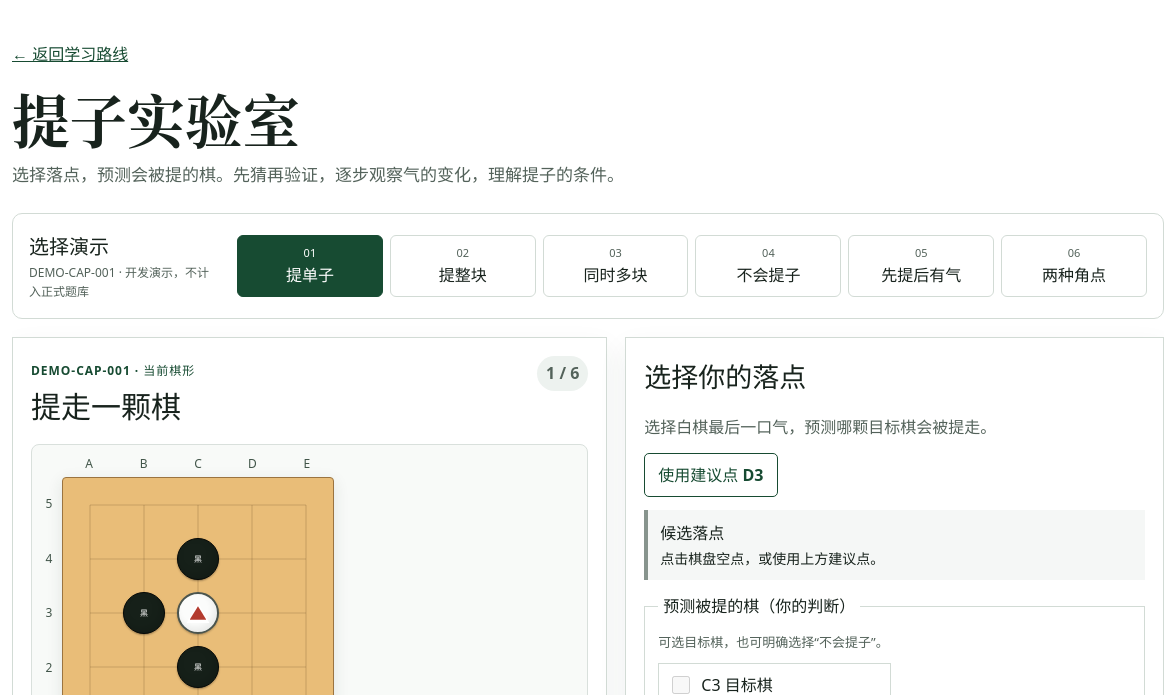
Scenario: T05 CaptureLab controller › shows suicide reason, keeps the initial board, then accepts capture-first
This screenshot has width=1164, height=695.
Click the button "06 两种角点": (1074, 266) [1001, 235, 1147, 297]
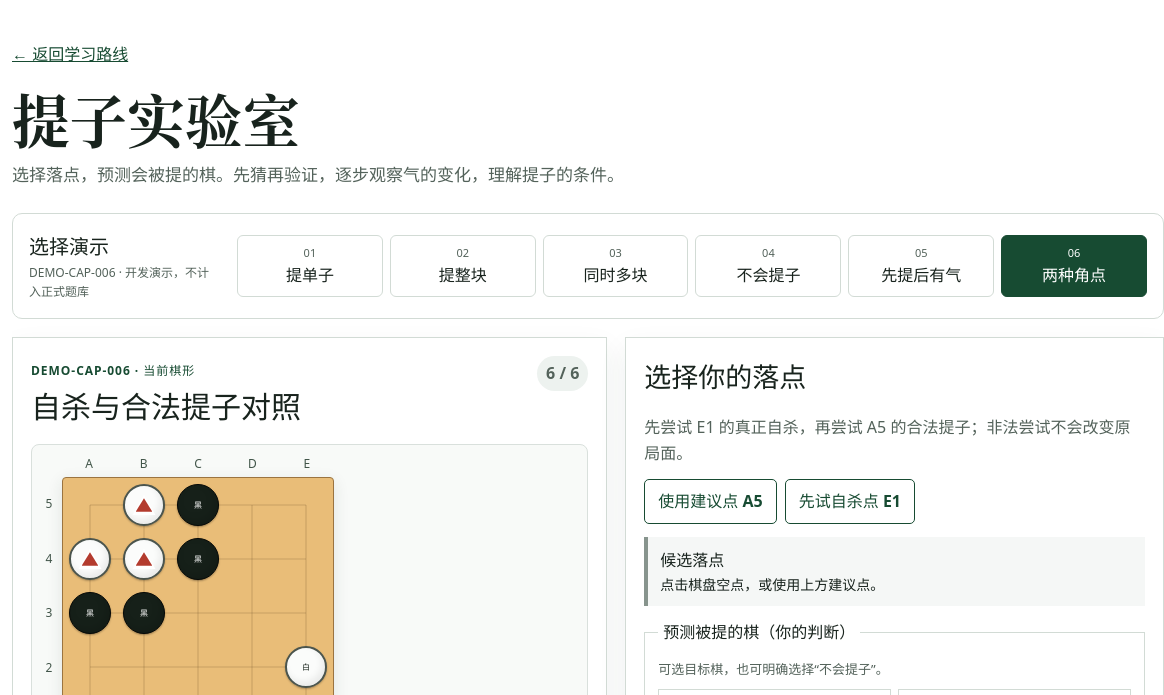
Click the button "先试自杀点 E1": (850, 502) [785, 480, 915, 524]
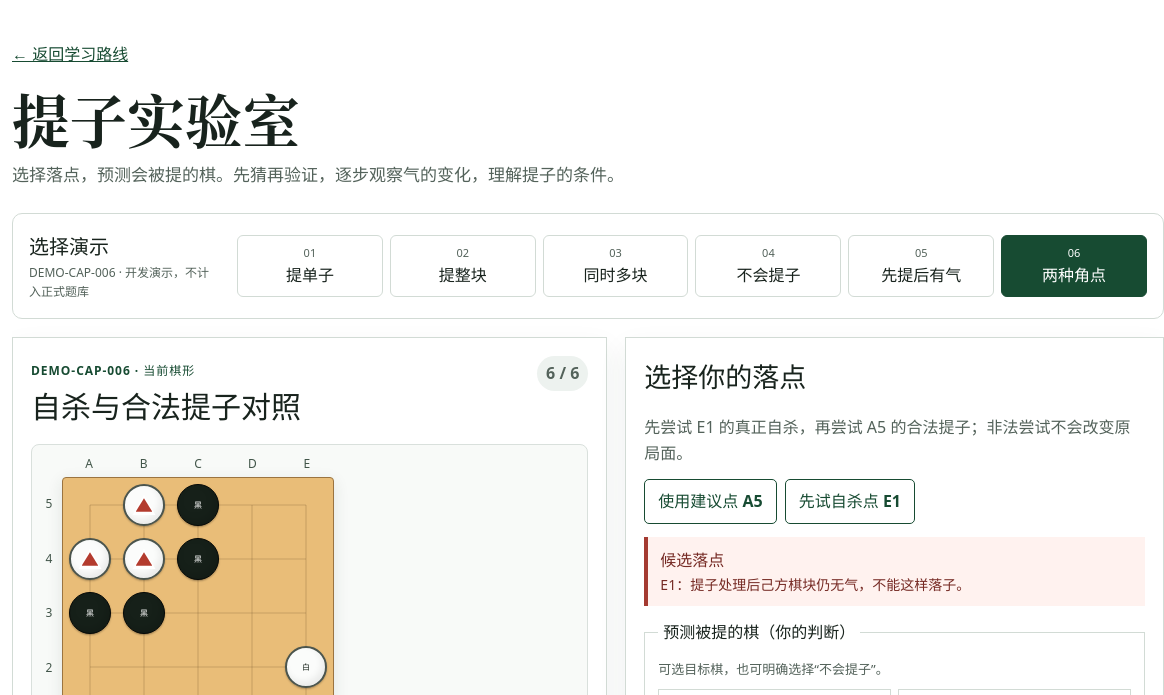
Expected: the text "提子处理后己方棋块仍无气" is shown, [660, 575, 970, 594]
Click the button "使用建议点 A5": (710, 502) [644, 480, 777, 524]
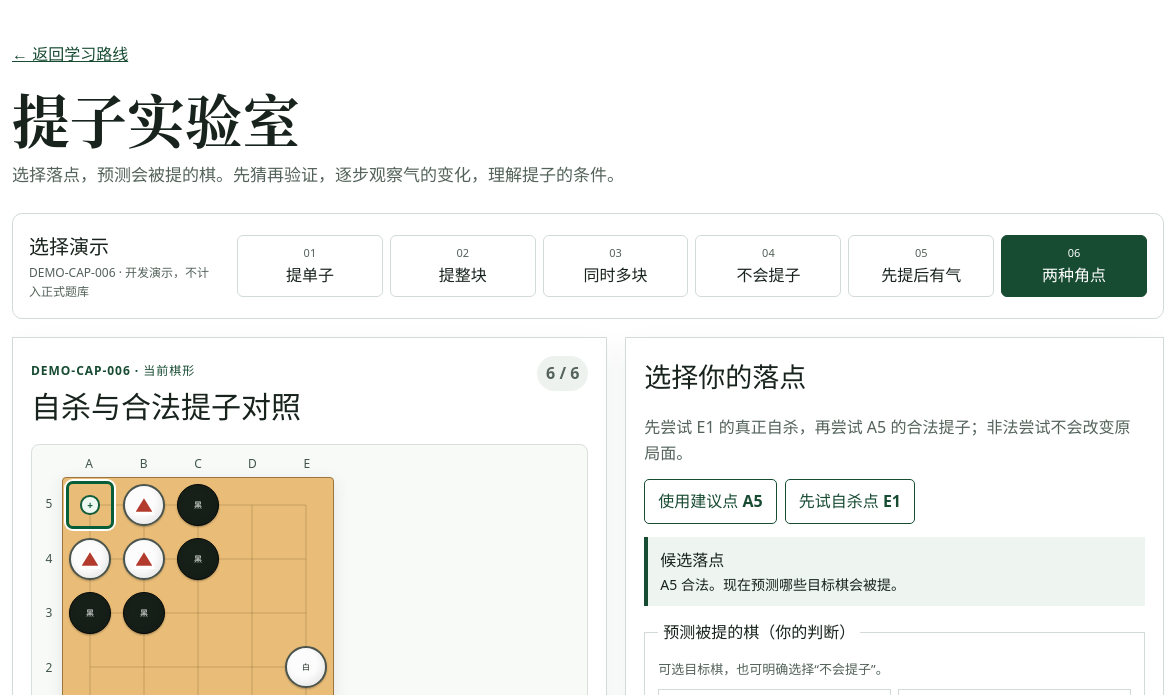
Expected: the text "A5 合法" is shown, [660, 575, 905, 594]
